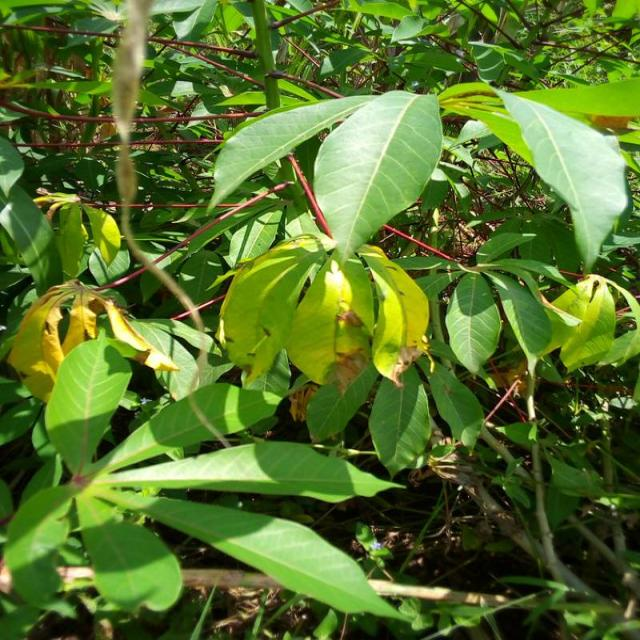cassava leaf: (491, 84, 631, 273), (312, 88, 442, 262), (205, 90, 377, 216), (43, 327, 133, 476)
